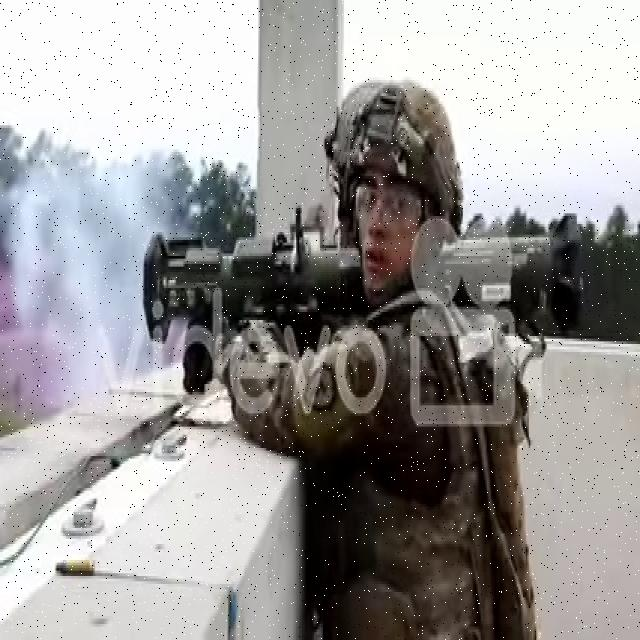bazooka: (137, 201, 592, 343)
